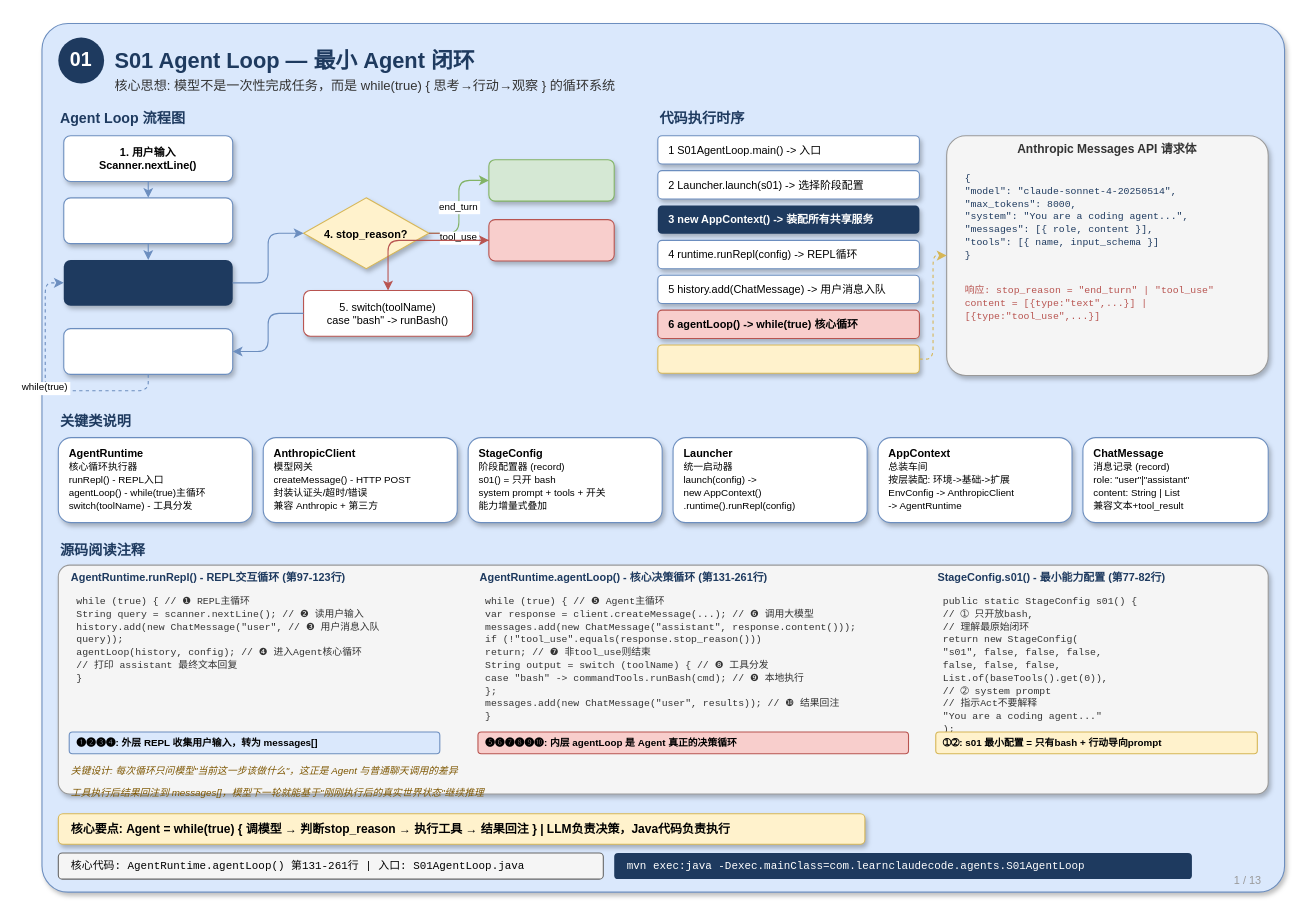
Image size: 1310x919. Some labels were removed from this diagram. Here are the shapes that lost their labels. From the top down, the centre of each, then its label:
[552,181]: end_turn 输出文本, return
[148,221]: 2. messages.add ChatMessage("user")
[552,241]: tool_use 进入工具分发
[149,284]: 3. client.createMessage() HTTP POST /v1/messages
[148,352]: 6. tool_result messages.add(user, results)
[789,360]: 7 client.createMessage() -> HTTP POST
